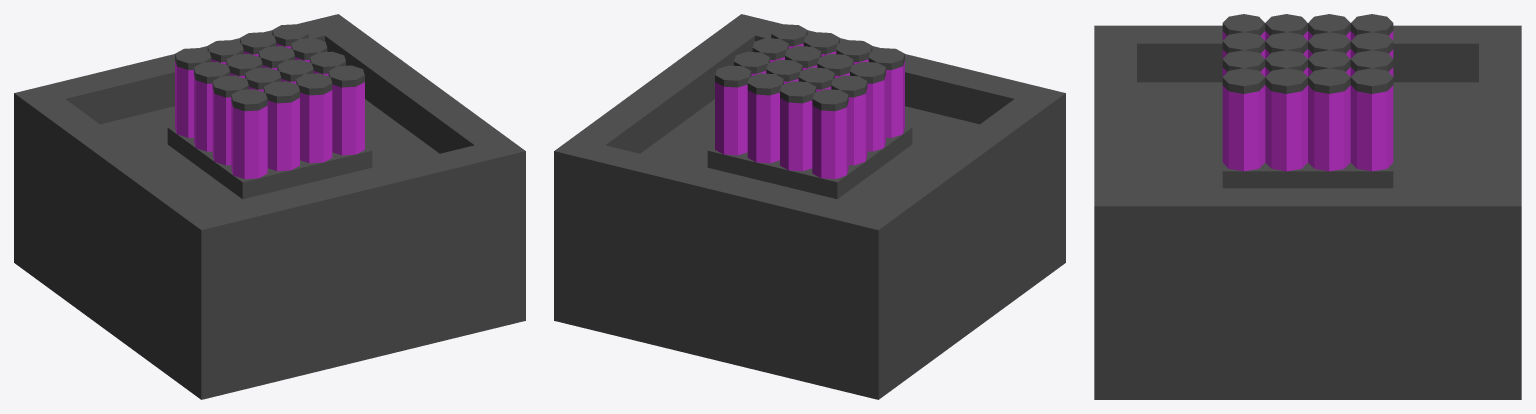
File: Cure Package.fbx
3 renders of one model, left to right at view 1: azimuth 30°, elevation 25°; view 2: azimuth 150°, elevation 25°; view 3: azimuth 270°, elevation 25°, orthographic. The views are drawn at different scales.
Parts seen in each view (by area): view 1: Base, Cure; view 2: Base, Cure; view 3: Base, Cure.
Part boxes in pixels (bbox=[...]): Base: bbox=[14, 14, 525, 399]; Cure: bbox=[175, 24, 364, 178]; Base: bbox=[554, 14, 1065, 399]; Cure: bbox=[715, 24, 904, 178]; Base: bbox=[1094, 25, 1521, 399]; Cure: bbox=[1222, 14, 1393, 171].
Size of the model in its own units: 0.5 by 0.335 by 0.5.
